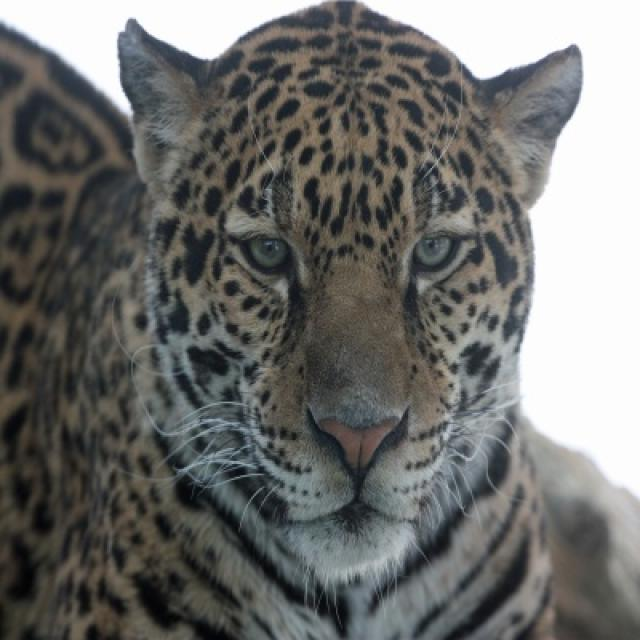Jaguar: (0, 0, 582, 638)
